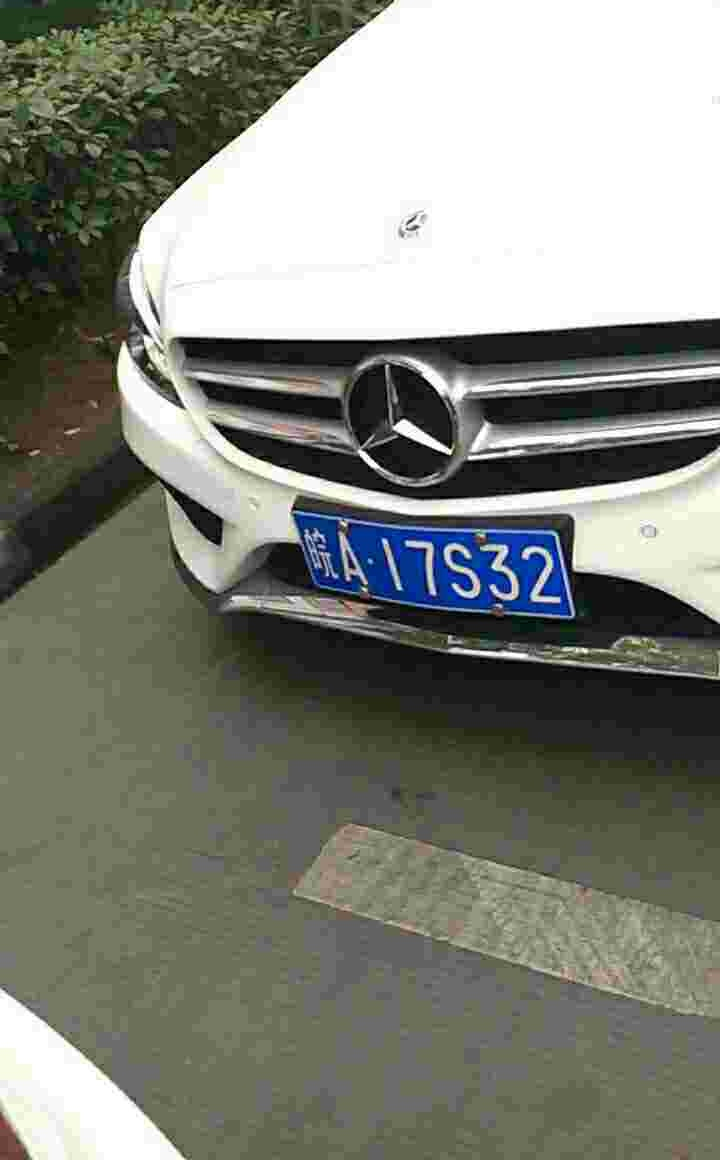license_plate: (299, 505, 575, 631)
